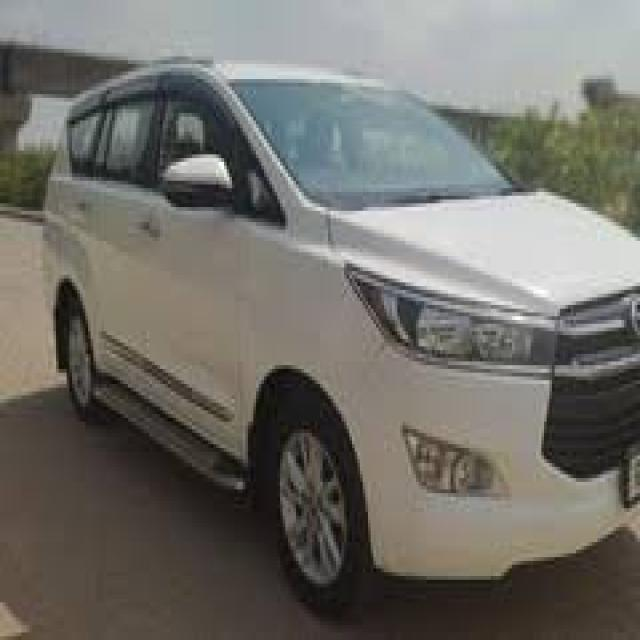light_vehicle: (44, 61, 640, 616)
